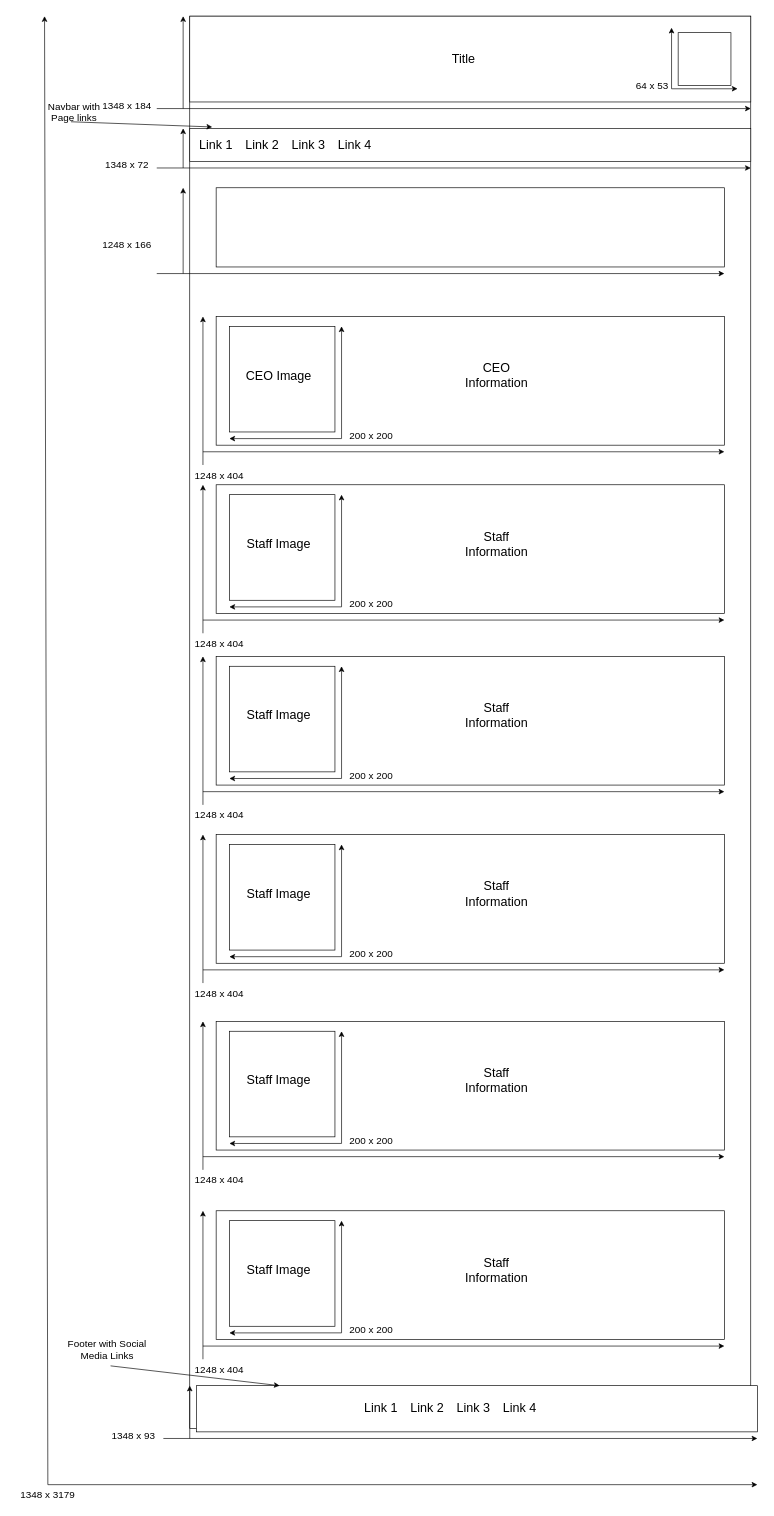
This 774x1516 diagram has some shape labels left out. Here are the shapes that lost their labels. From the top down, the centre of each, then its label:
At (704,58): "Logo".
At (469,227): "Section Title".
